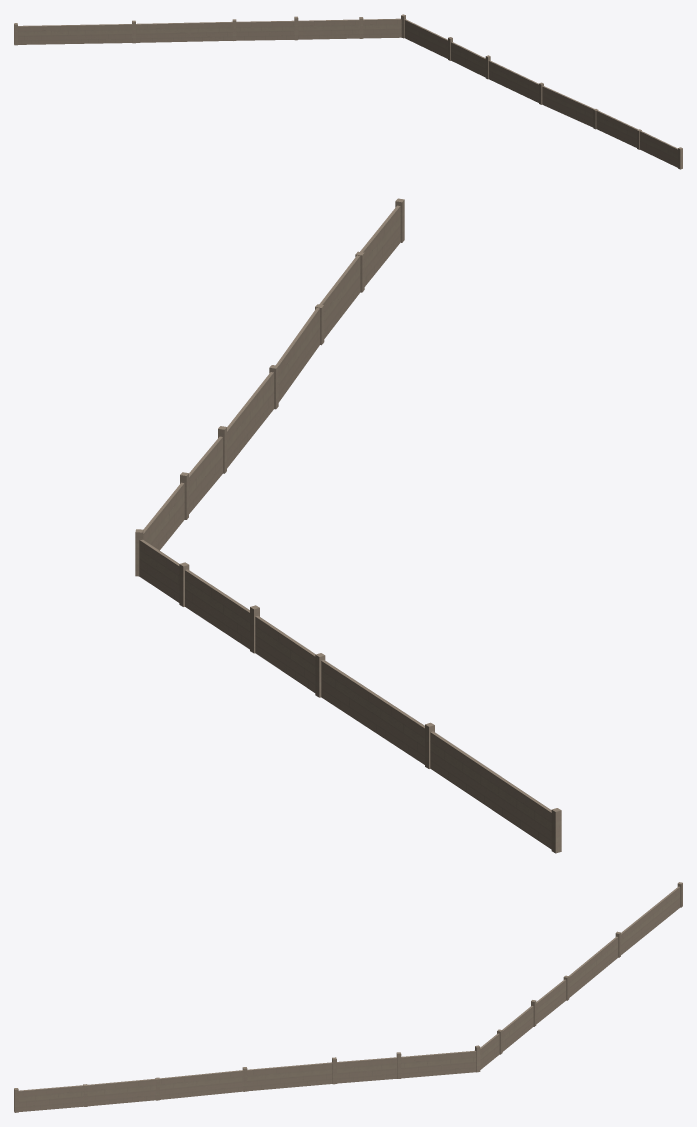
Rendered from kd_stage_135fe0_3_1_bounded.glb.
3 renders of one model, top to bottom at view 1: azimuth 30°, elevation 25°; view 2: azimuth 150°, elevation 25°; view 3: azimuth 270°, elevation 25°, orthographic. The views are drawn at different scales.
Parts seen in each view (by area): view 1: kd_stage_135fe0_3_1_bounded; view 2: kd_stage_135fe0_3_1_bounded; view 3: kd_stage_135fe0_3_1_bounded.
Part boxes in pixels (left/top/right/bottom): kd_stage_135fe0_3_1_bounded: left=14, top=14, right=682, bottom=169; kd_stage_135fe0_3_1_bounded: left=135, top=198, right=561, bottom=853; kd_stage_135fe0_3_1_bounded: left=14, top=882, right=682, bottom=1112.
Bounding box in the file's own units: 9.65 × 0.5413 × 13.16.
Materials: 1 (1 with a texture image).
